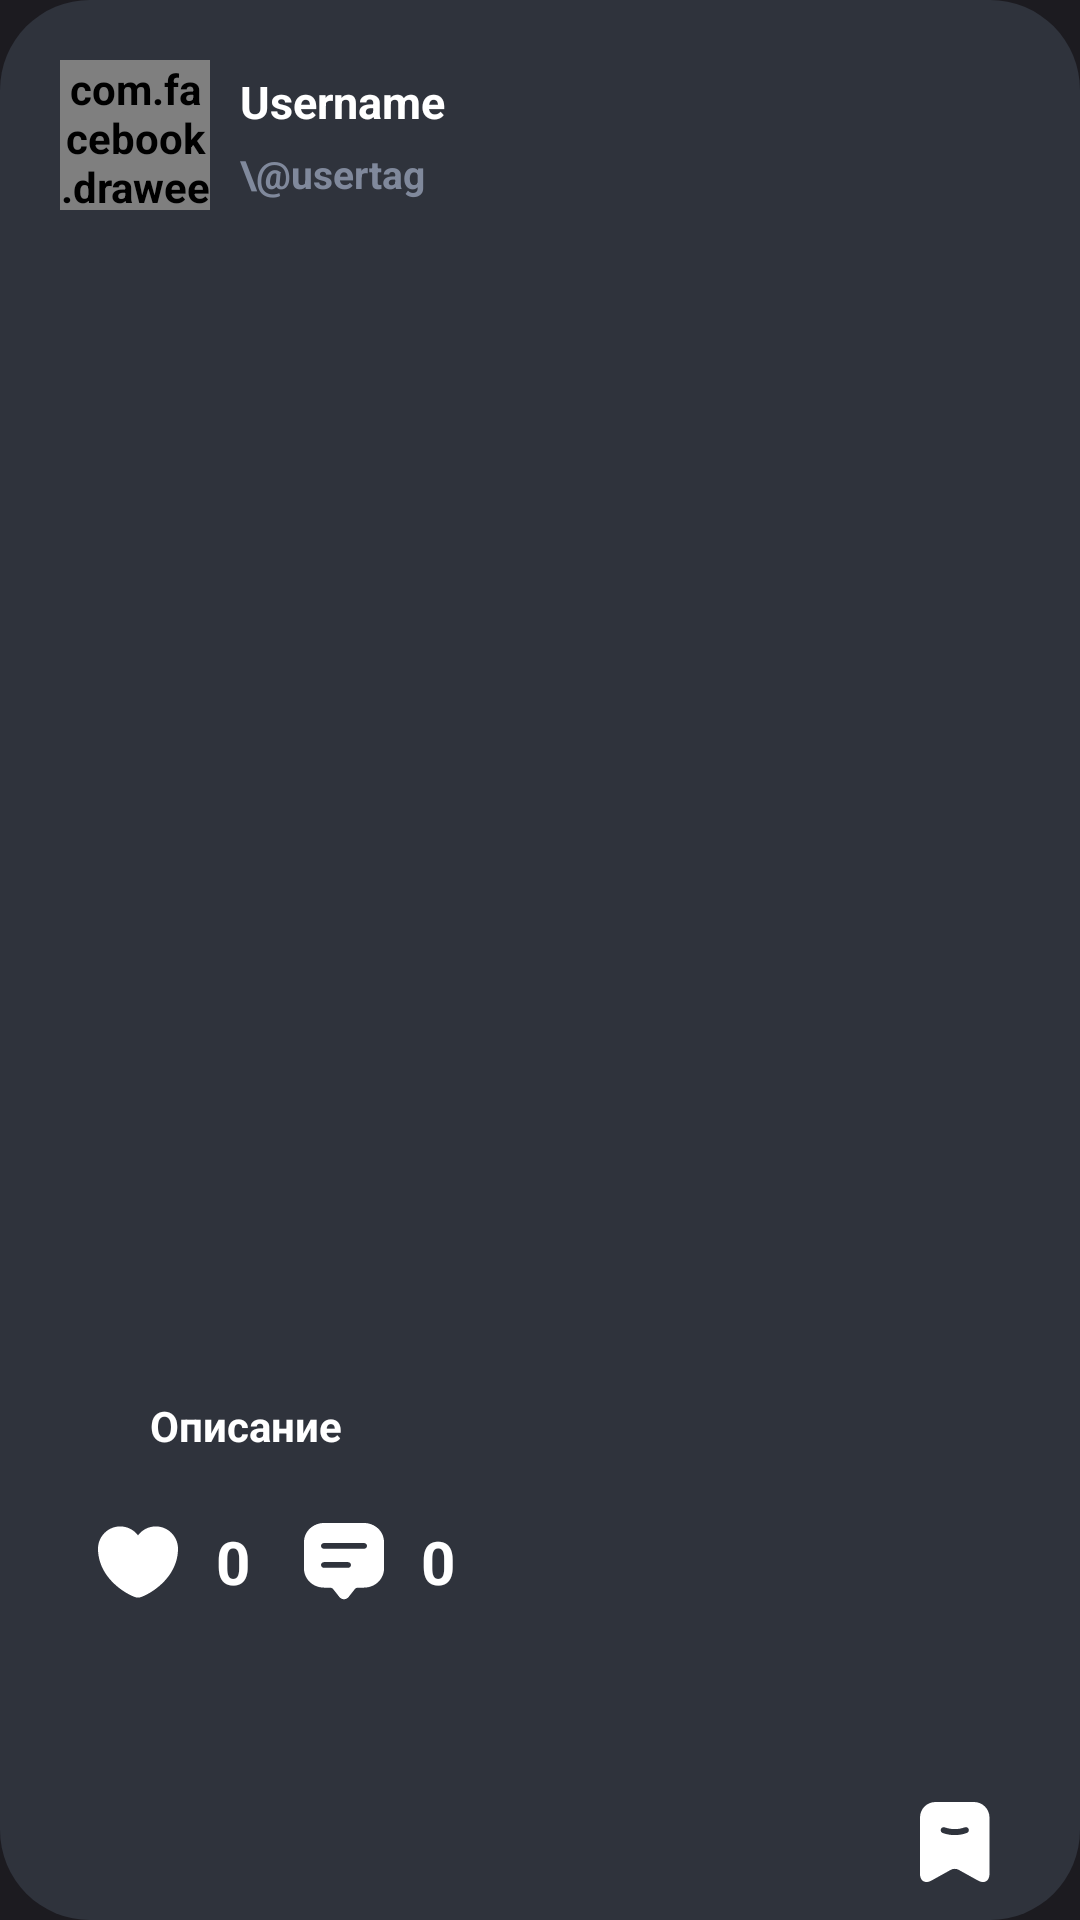

Where icons sit on this 1080px×1920px app screen, as (x1, y1, x2, y2):
add to favorites: (920, 1802, 990, 1882)
comment: (304, 1523, 384, 1600)
like: (98, 1526, 178, 1598)
